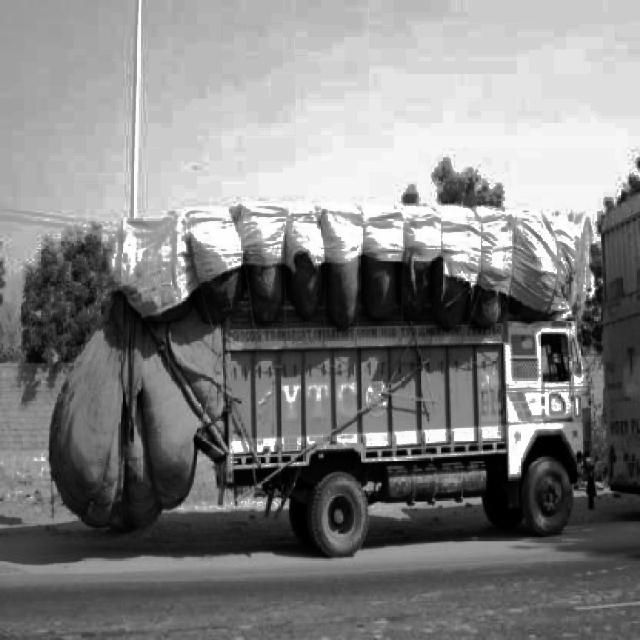HCV: (114, 210, 602, 554)
